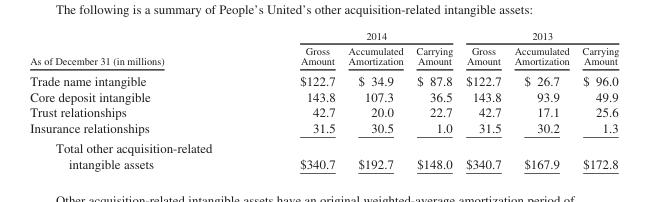table: (29, 29, 618, 170)
table column: (29, 29, 255, 170), (255, 29, 341, 170), (341, 29, 409, 170), (507, 29, 575, 170), (409, 29, 458, 170), (458, 29, 507, 170), (575, 29, 618, 170)
table column header: (29, 29, 618, 70)
table row: (29, 137, 618, 170), (29, 42, 618, 70), (29, 70, 618, 88), (29, 119, 618, 137), (29, 103, 618, 119), (29, 88, 618, 103), (29, 29, 618, 42)
table spanning cell: (29, 29, 255, 70), (255, 29, 458, 42), (458, 29, 618, 42)
